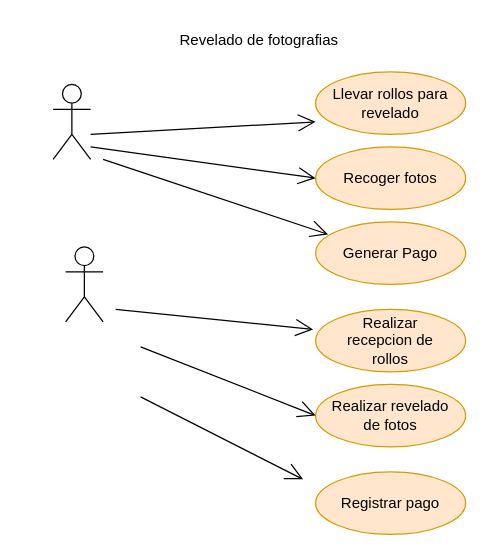
This 488x556 diagram has some shape labels left out. The shapes that lost their labels are listed below. From the top down, each one's box as (x1, y1, x2, y2) in pixels, then its label:
(52, 83, 91, 159): Cliente
(64, 246, 103, 322): Empleado Agencia
